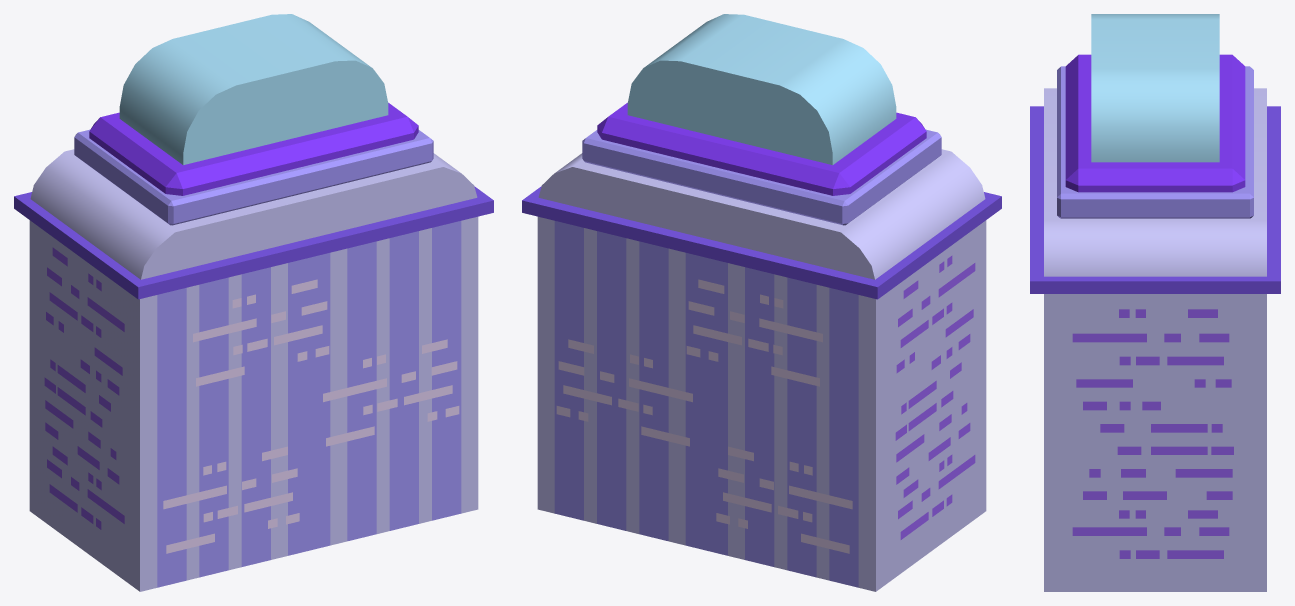
The model's file is Building_033.fbx.
3 renders of one model, left to right at view 1: azimuth 30°, elevation 25°; view 2: azimuth 150°, elevation 25°; view 3: azimuth 270°, elevation 25°, orthographic.
Visible parts, largest first — view 1: Building_033; view 2: Building_033; view 3: Building_033.
Boxes of the visible parts, x1=… form: Building_033: x1=14, y1=14, x2=493, y2=591; Building_033: x1=522, y1=14, x2=1001, y2=591; Building_033: x1=1030, y1=14, x2=1280, y2=591.
Size of the model in its own units: 65.89 by 81.45 by 39.85.
